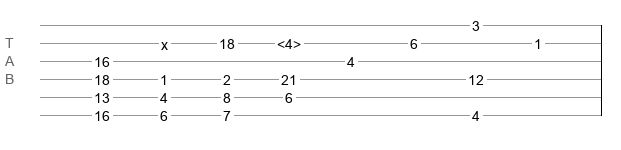1: (160, 72, 168, 82), (534, 36, 542, 46)
12: (468, 72, 484, 82)
13: (94, 90, 110, 100)
16: (94, 108, 110, 118), (94, 54, 110, 64)
18: (94, 72, 110, 82), (219, 36, 235, 46)
2: (223, 72, 231, 82)
21: (281, 72, 297, 82)
3: (472, 18, 480, 28)
4: (160, 90, 168, 100), (347, 54, 355, 64), (472, 108, 480, 118)
6: (160, 108, 168, 118), (285, 90, 293, 100), (410, 36, 418, 46)
7: (223, 108, 231, 118)
8: (223, 90, 231, 100)
harmonic: (277, 36, 301, 46)
x: (161, 37, 168, 45)
